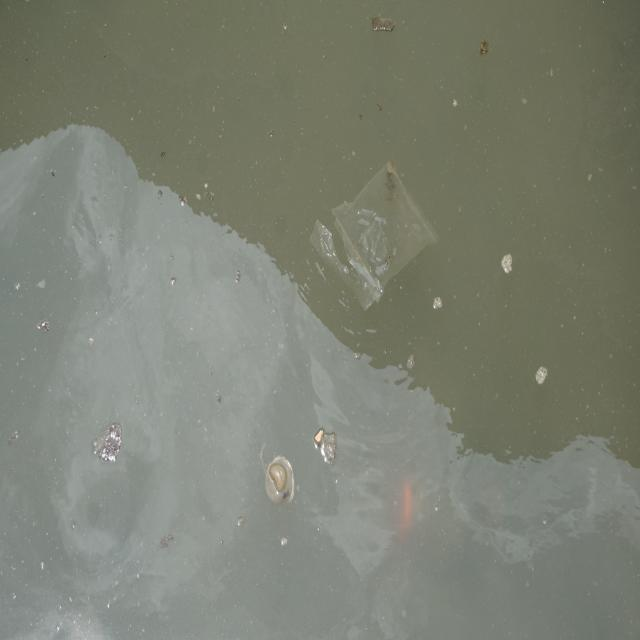Kantong Plastik: (309, 162, 440, 318)
